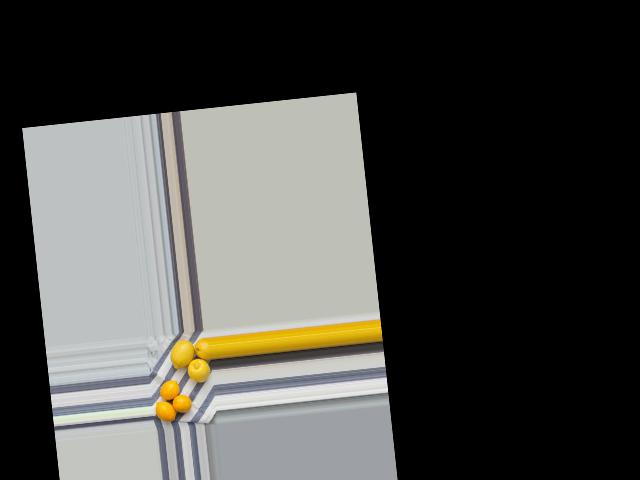lemon: (192, 334, 211, 361)
